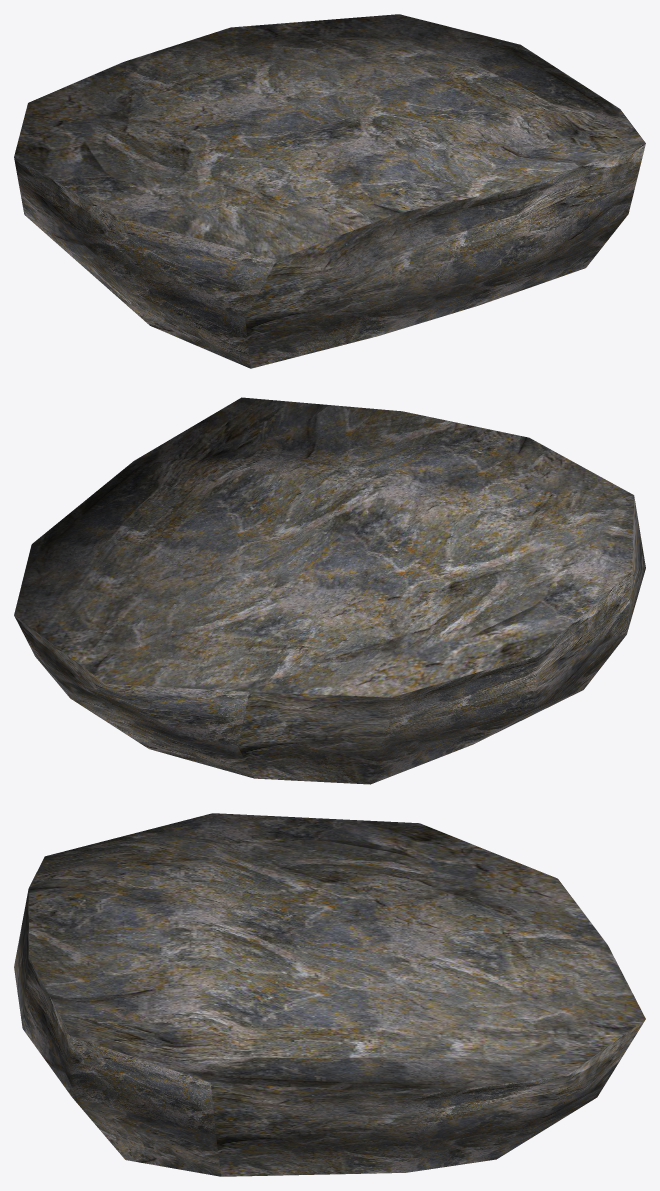
File: Stone-03.obj
3 renders of one model, top to bottom at view 1: azimuth 30°, elevation 25°; view 2: azimuth 150°, elevation 25°; view 3: azimuth 270°, elevation 25°, orthographic. The views are drawn at different scales.
Parts seen in each view (by area): view 1: Stone-03; view 2: Stone-03; view 3: Stone-03.
Part boxes in pixels (<box>): Stone-03: <box>14,14,645,368</box>; Stone-03: <box>14,397,645,784</box>; Stone-03: <box>14,813,645,1176</box>.
Bounding box in the file's own units: 7.57 × 2.37 × 7.83.
